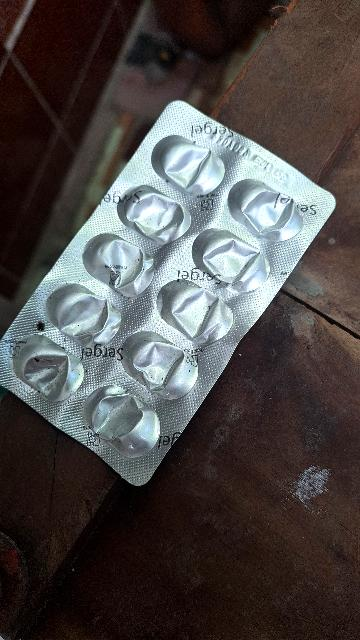medicine: (0, 77, 350, 496)
